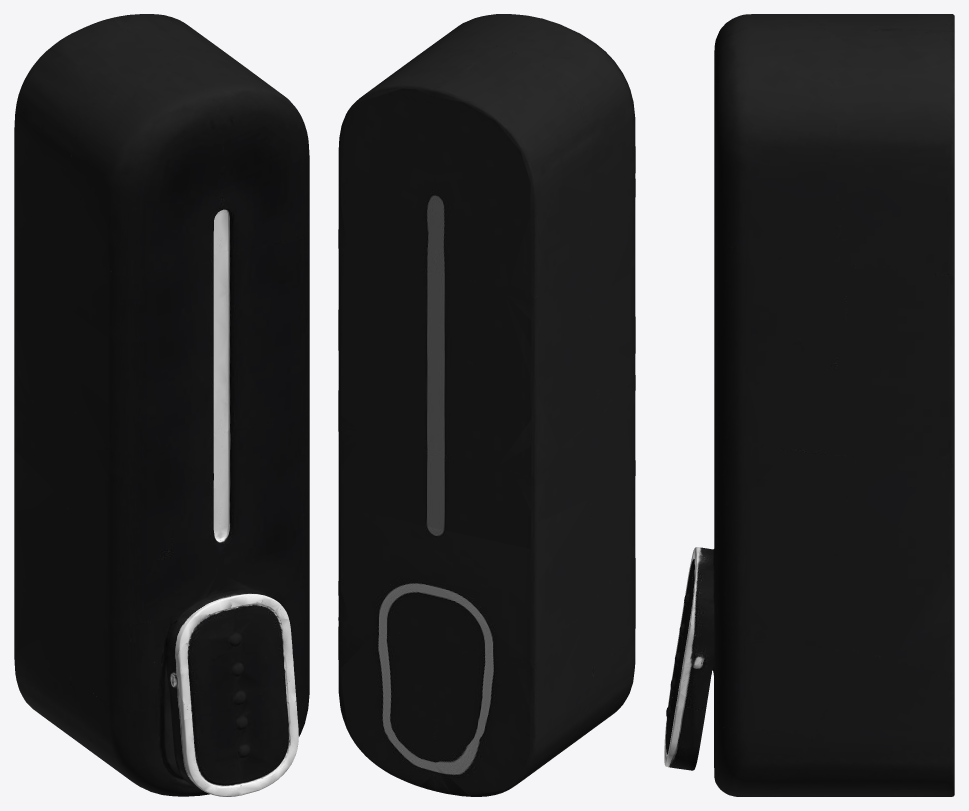
File: mk2-wall-soap-dispenser.glb
The picture shows the model from 3 angles, left to right: view 1: azimuth 30°, elevation 25°; view 2: azimuth 150°, elevation 25°; view 3: azimuth 270°, elevation 25°; orthographic projection. The views are drawn at different scales.
Parts seen in each view (by area): view 1: mesh_node; view 2: mesh_node; view 3: mesh_node.
Boxes of the visible parts, <box> form: mesh_node: <box>14,14,309,796</box>; mesh_node: <box>338,14,635,796</box>; mesh_node: <box>664,14,954,796</box>.
Size of the model in its own units: 0.5614 by 1.9 by 0.6688.
Materials: 1 (1 with a texture image).
